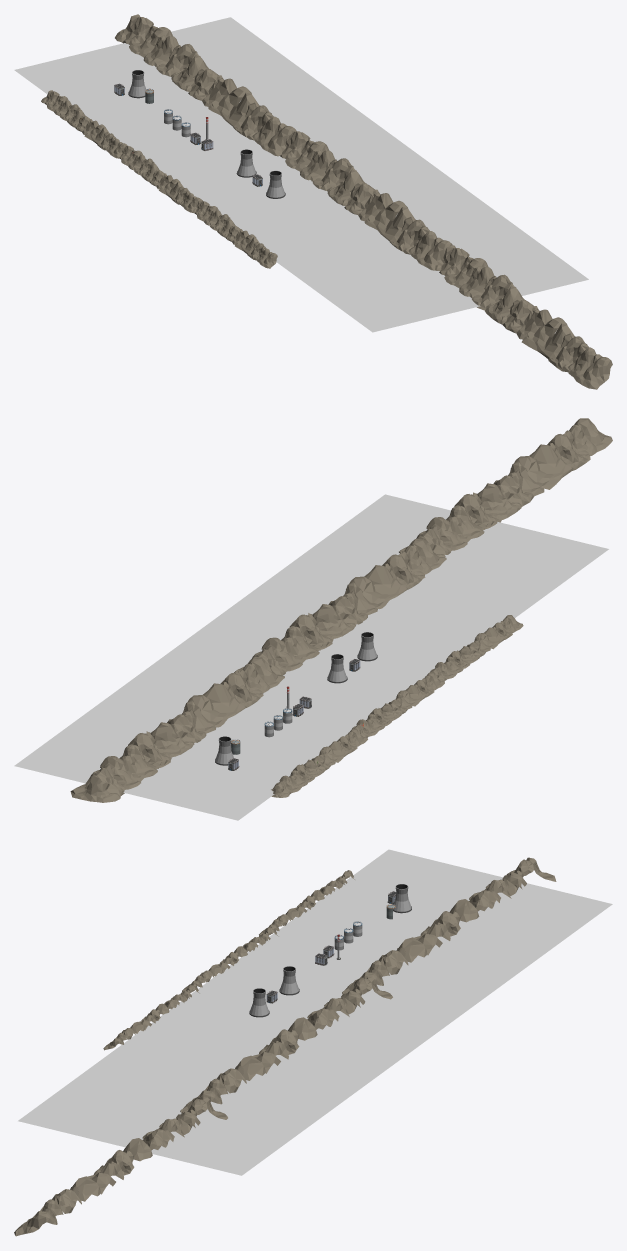
File: _lvl_halloween_far_bg.glb
3 views of the same model, one above another, from view 1: azimuth 30°, elevation 25°; view 2: azimuth 150°, elevation 25°; view 3: azimuth 330°, elevation 25° (orthographic). The views are drawn at different scales.
Parts seen in each view (by area): view 1: ground, SM_Env_Hills_Far_Back_part2 (2) (×2), SM_Env_Hills_Far_Back_part2 (1) (×2), SM_Env_Hills_Far_Back_part2 (×2), SM_Env_Hills_Far_Back_part1 (×2), SM_Env_Hills_Far_Back_part1 (2) (×2), SM_Env_Hills_Far_Back_part1 (1) (×2); view 2: ground, SM_Env_Hills_Far_Back_part2 (2) (×2), SM_Env_Hills_Far_Back_part2 (×2), SM_Env_Hills_Far_Back_part2 (1) (×2), SM_Env_Hills_Far_Back_part1 (×2), SM_Env_Hills_Far_Back_part1 (2) (×2), SM_Env_Hills_Far_Back_part1 (1) (×2); view 3: ground, SM_Env_Hills_Far_Back_part2 (2) (×2), SM_Env_Hills_Far_Back_part2 (1) (×2), SM_Env_Hills_Far_Back_part2 (×2), SM_Env_Hills_Far_Back_part1, SM_Env_Hills_Far_Back_part1 (2), SM_Env_Hills_Far_Back_part1 (1).
Part boxes in pixels (bbox=[...]): ground: bbox=[14, 17, 588, 332]; SM_Env_Hills_Far_Back_part2 (2) (×2): bbox=[224, 225, 612, 389]; SM_Env_Hills_Far_Back_part2 (1) (×2): bbox=[148, 170, 452, 270]; SM_Env_Hills_Far_Back_part2 (×2): bbox=[74, 68, 294, 158]; SM_Env_Hills_Far_Back_part1 (×2): bbox=[41, 14, 208, 127]; SM_Env_Hills_Far_Back_part1 (2) (×2): bbox=[193, 200, 524, 322]; SM_Env_Hills_Far_Back_part1 (1) (×2): bbox=[119, 128, 365, 204]; ground: bbox=[14, 494, 608, 820]; SM_Env_Hills_Far_Back_part2 (2) (×2): bbox=[467, 418, 612, 657]; SM_Env_Hills_Far_Back_part2 (×2): bbox=[167, 657, 367, 771]; SM_Env_Hills_Far_Back_part2 (1) (×2): bbox=[328, 539, 446, 714]; SM_Env_Hills_Far_Back_part1 (×2): bbox=[70, 722, 324, 802]; SM_Env_Hills_Far_Back_part1 (2) (×2): bbox=[399, 483, 521, 681]; SM_Env_Hills_Far_Back_part1 (1) (×2): bbox=[234, 604, 401, 737]; ground: bbox=[18, 849, 612, 1175]; SM_Env_Hills_Far_Back_part2 (2) (×2): bbox=[14, 1009, 160, 1236]; SM_Env_Hills_Far_Back_part2 (1) (×2): bbox=[180, 952, 299, 1112]; SM_Env_Hills_Far_Back_part2 (×2): bbox=[259, 895, 460, 994]; SM_Env_Hills_Far_Back_part1: bbox=[450, 857, 556, 922]; SM_Env_Hills_Far_Back_part1 (2): bbox=[123, 1096, 227, 1161]; SM_Env_Hills_Far_Back_part1 (1): bbox=[288, 976, 392, 1040].
Bounding box in the file's own units: 657 × 68.78 × 2414.
2 materials, 1 textured.
